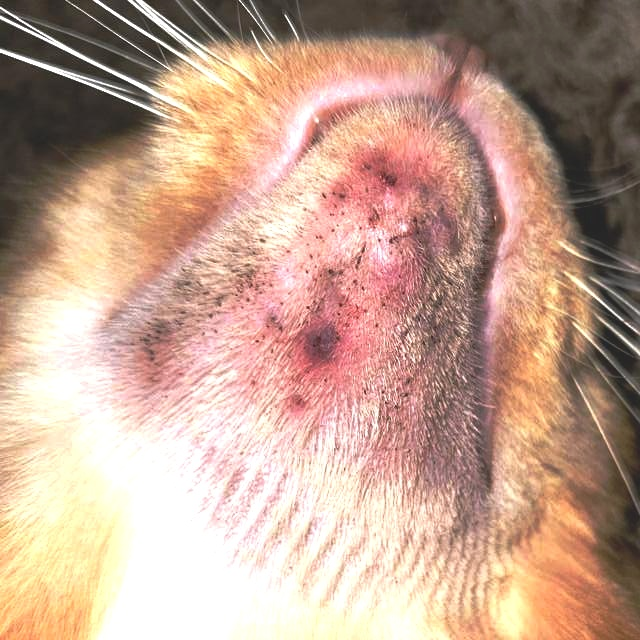acne: (122, 160, 473, 427)
